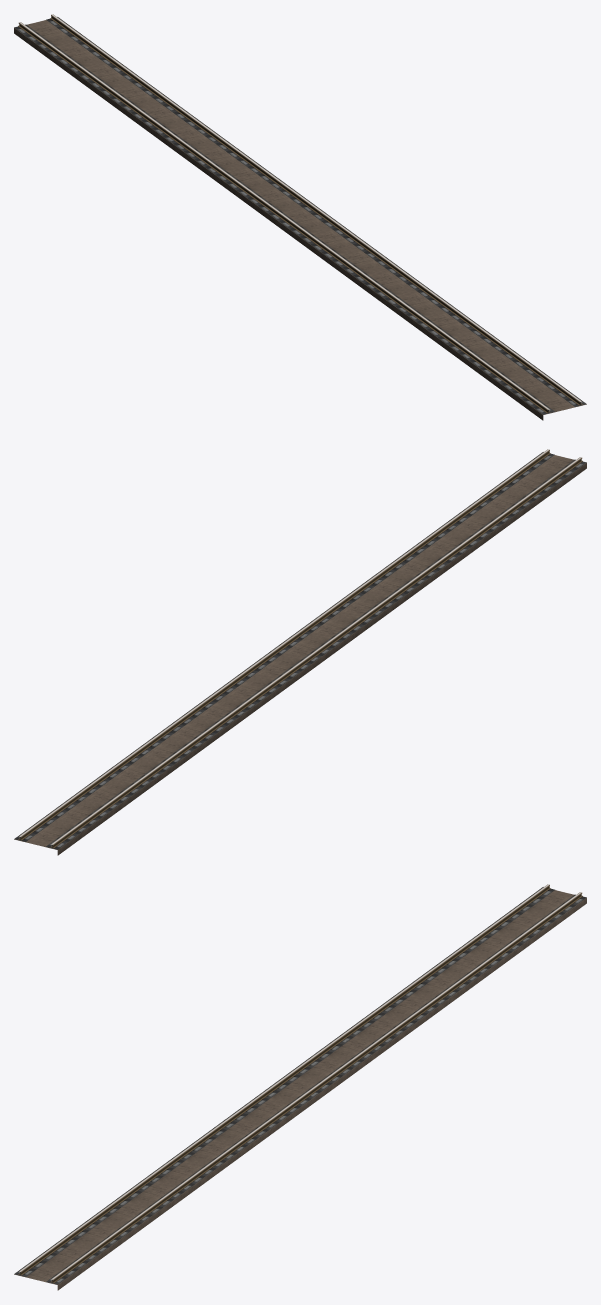
The model's file is MEI_1RAIL_100_CHIKA.glb.
3 renders of one model, top to bottom at view 1: azimuth 30°, elevation 25°; view 2: azimuth 150°, elevation 25°; view 3: azimuth 330°, elevation 25°, orthographic.
Visible parts, largest first — view 1: obj1; view 2: obj1; view 3: obj1.
Part boxes in pixels (bbox=[...]): obj1: bbox=[14, 14, 586, 420]; obj1: bbox=[14, 449, 586, 855]; obj1: bbox=[14, 884, 586, 1290].
Bounding box in the file's own units: 4.78 × 1.02 × 100.
Materials: 4 (3 with a texture image).
